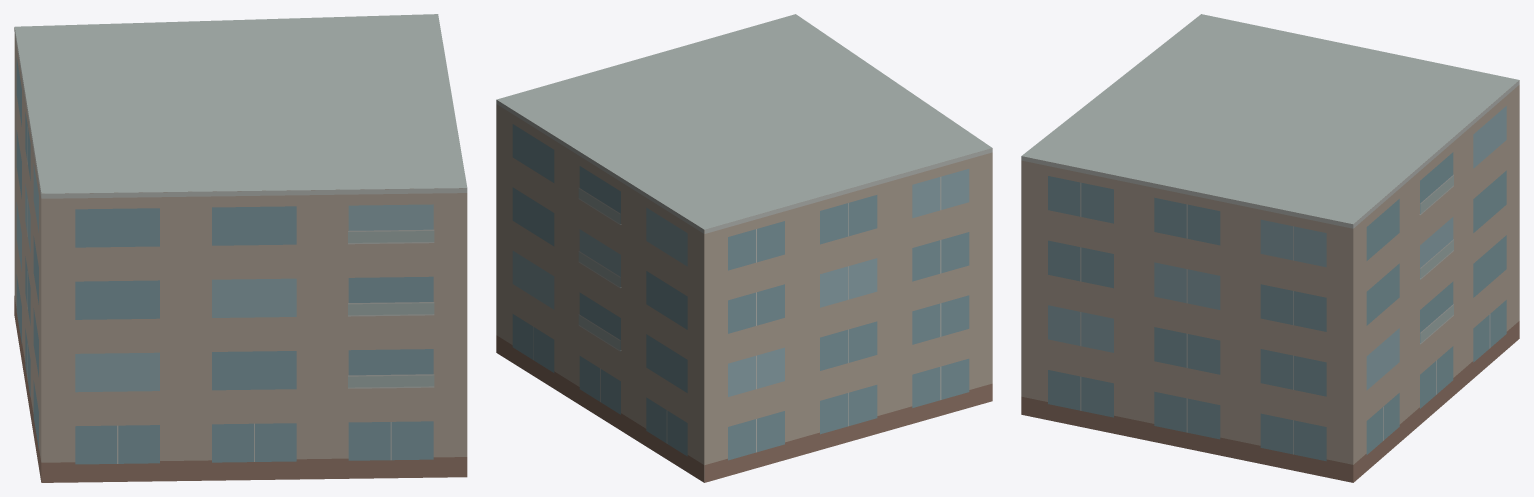
File: survey-upis-32711794.glb
3 renders of one model, left to right at view 1: azimuth 30°, elevation 25°; view 2: azimuth 150°, elevation 25°; view 3: azimuth 270°, elevation 25°, orthographic. The views are drawn at different scales.
Parts seen in each view (by area): view 1: survey-upis-32711794.tmp; view 2: survey-upis-32711794.tmp; view 3: survey-upis-32711794.tmp.
Part boxes in pixels (<box>): survey-upis-32711794.tmp: <box>14,14,467,482</box>; survey-upis-32711794.tmp: <box>496,14,992,482</box>; survey-upis-32711794.tmp: <box>1021,14,1519,482</box>.
Size of the model in its own units: 24.6 by 14.1 by 24.63.
